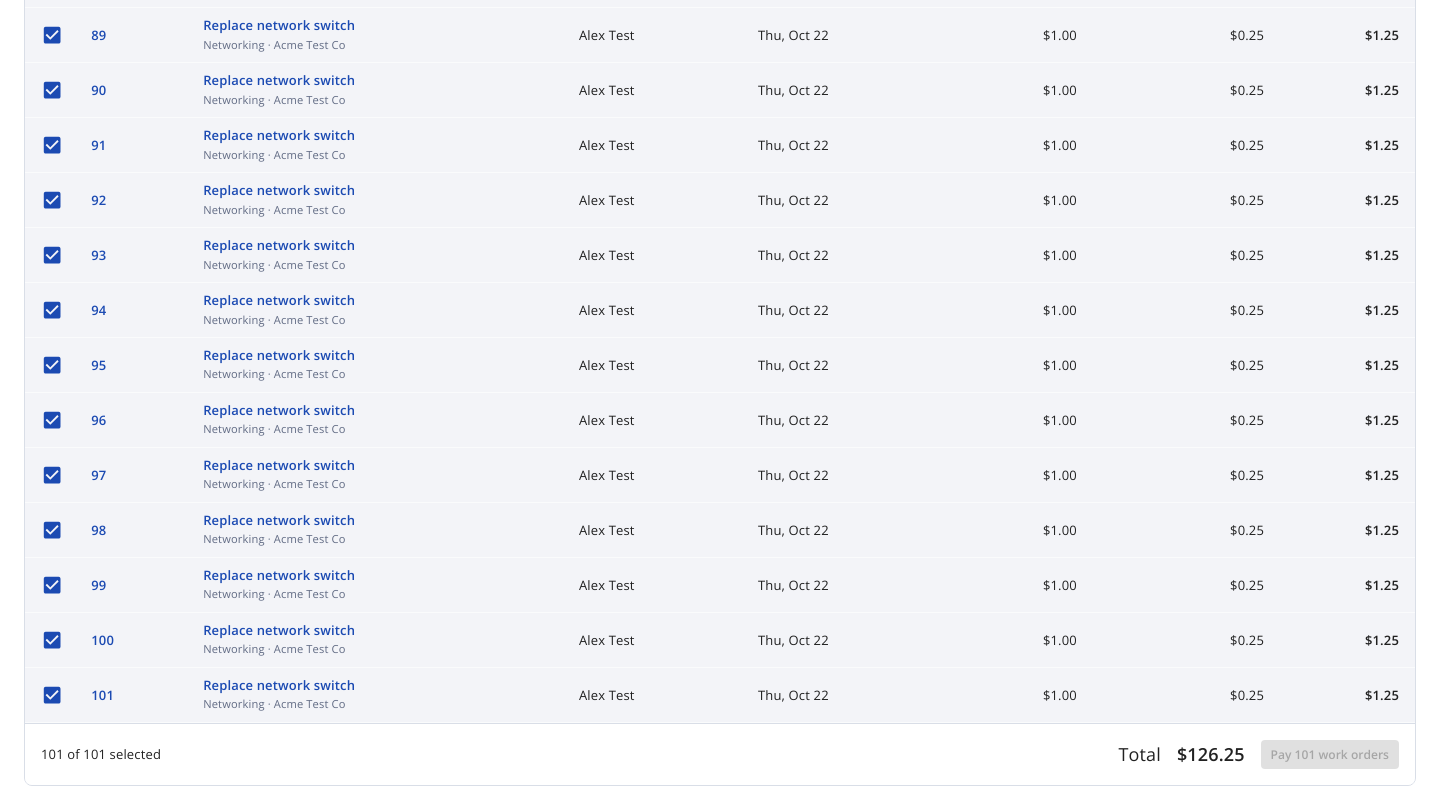
Scenario: PayRunPage › quotes 101 approved work orders in batches and combines their totals
(page scrolled)
Check: the text "$126.25" is shown, box left=1177, top=741, right=1245, bottom=768
Check: the text "101 of 101 selected" is shown, box left=41, top=745, right=161, bottom=764
Click the checkbox named "Select WO 101".
click(52, 695)  # box left=41, top=684, right=63, bottom=706
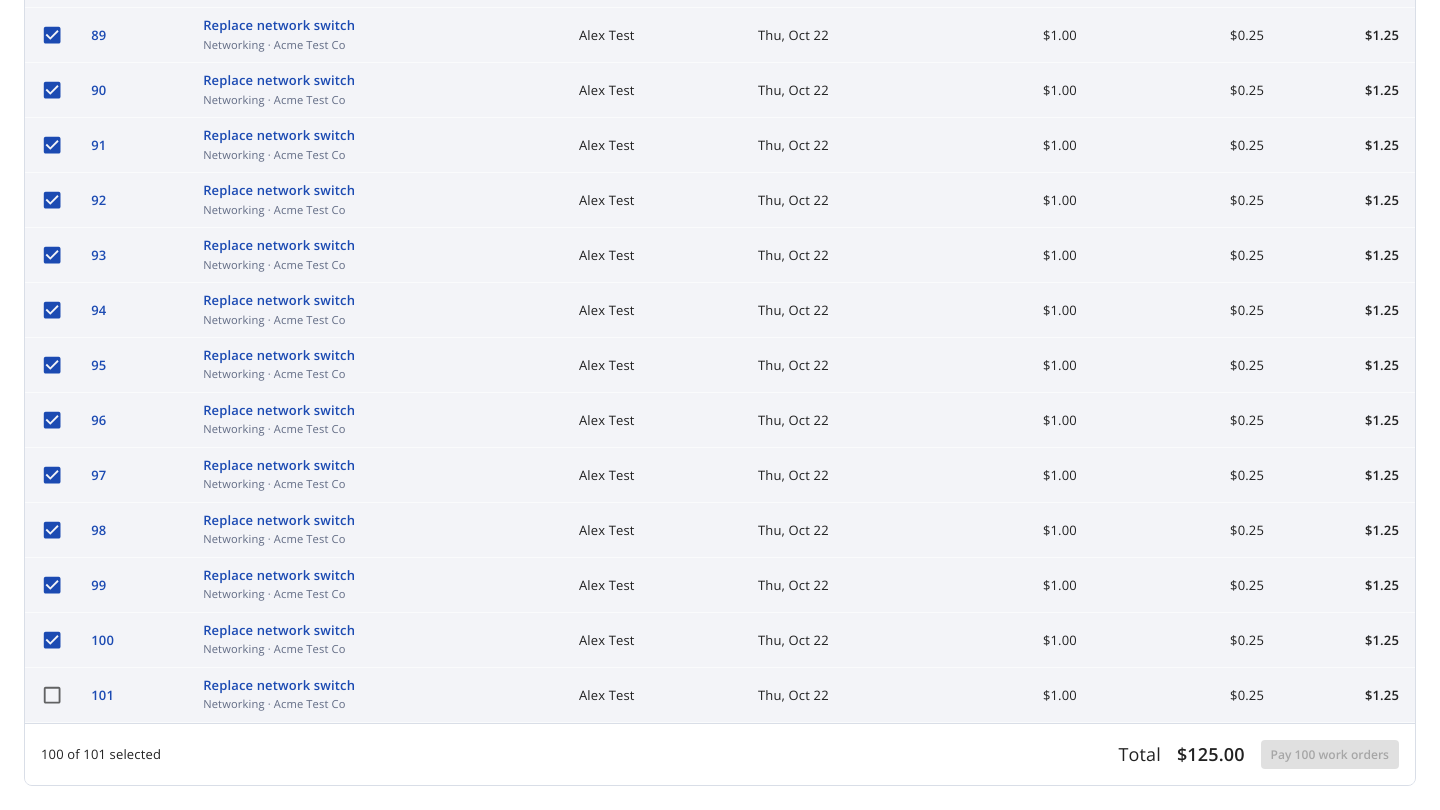
Check: the text "$125.00" is shown, box left=1177, top=741, right=1245, bottom=768
Check: the text "100 of 101 selected" is shown, box left=41, top=745, right=161, bottom=764
